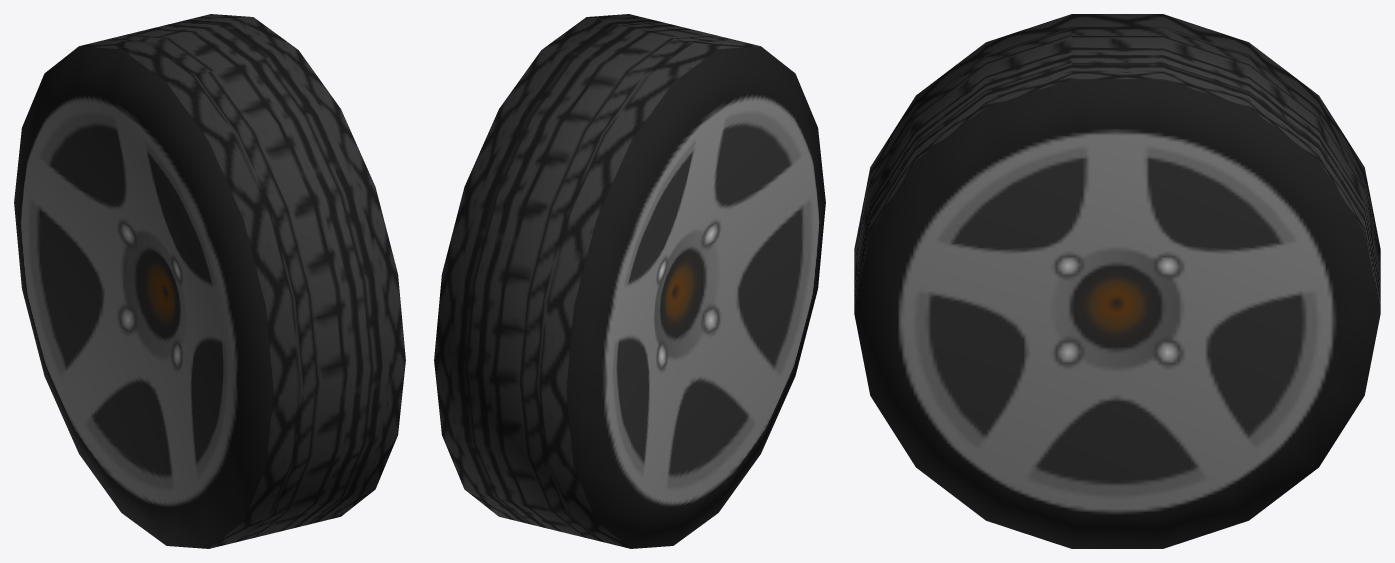
The model's file is fox_wrc_wheel.obj.
3 views of the same model, side by side, from view 1: azimuth 30°, elevation 25°; view 2: azimuth 150°, elevation 25°; view 3: azimuth 270°, elevation 25° (orthographic).
Parts seen in each view (by area): view 1: wheel_Cylinder01x.016; view 2: wheel_Cylinder01x.016; view 3: wheel_Cylinder01x.016.
Part boxes in pixels (<box>): wheel_Cylinder01x.016: <box>14,14,405,548</box>; wheel_Cylinder01x.016: <box>434,14,825,548</box>; wheel_Cylinder01x.016: <box>854,14,1380,548</box>.
Bounding box in the file's own units: 0.7576 × 2 × 2.03.
Materials: 1 (1 with a texture image).
